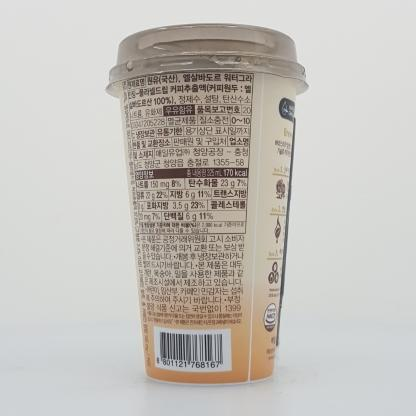------------------325ML: (105, 23, 309, 386)
